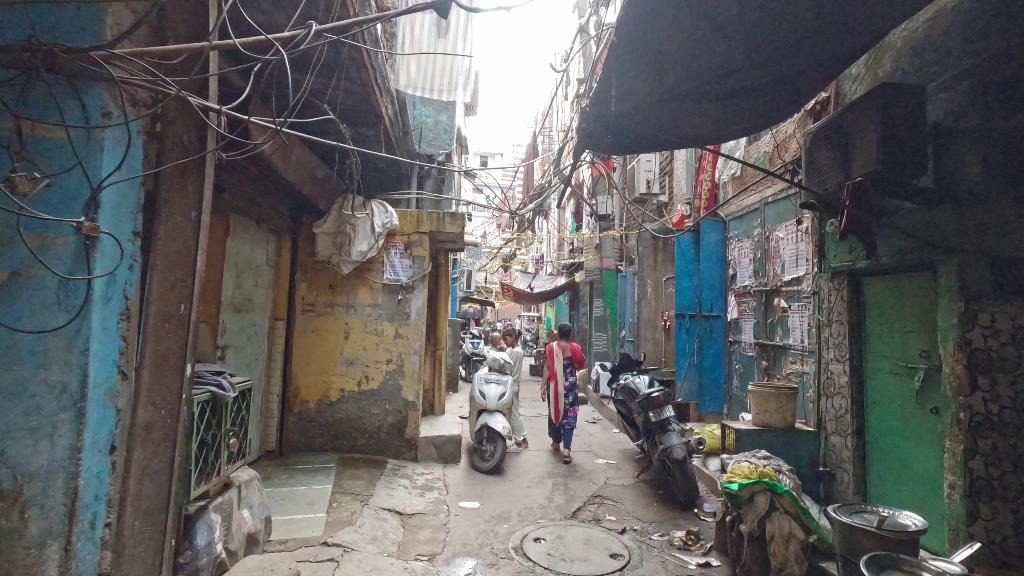garbage: (647, 525, 717, 559), (451, 492, 491, 515), (592, 455, 619, 471)
